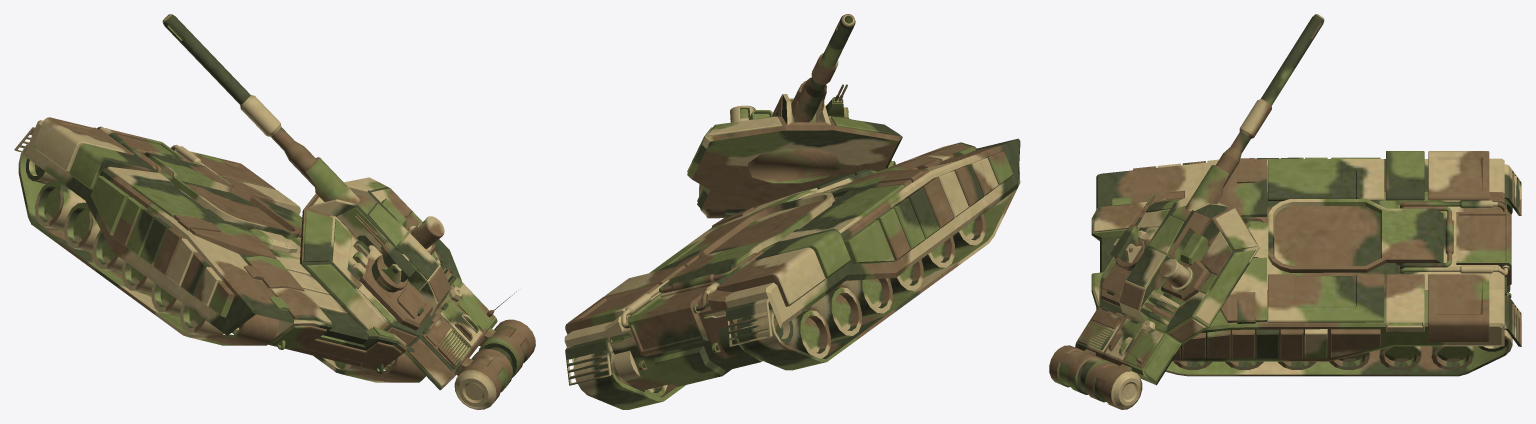
File: LoseTank.fbx
The picture shows the model from 3 angles, left to right: view 1: azimuth 30°, elevation 25°; view 2: azimuth 150°, elevation 25°; view 3: azimuth 270°, elevation 25°; orthographic projection. The views are drawn at different scales.
Parts seen in each view (by area): view 1: TankBottom, TankTop; view 2: TankBottom, TankTop; view 3: TankBottom, TankTop.
Boxes of the visible parts, bbox=[...] form: TankBottom: bbox=[14, 117, 425, 382]; TankTop: bbox=[162, 14, 535, 409]; TankBottom: bbox=[564, 138, 1020, 409]; TankTop: bbox=[687, 14, 902, 218]; TankBottom: bbox=[1091, 151, 1521, 376]; TankTop: bbox=[1049, 14, 1324, 409].
Size of the model in its own units: 1.24 by 1.31 by 1.83.
Materials: 2 (2 with a texture image).
